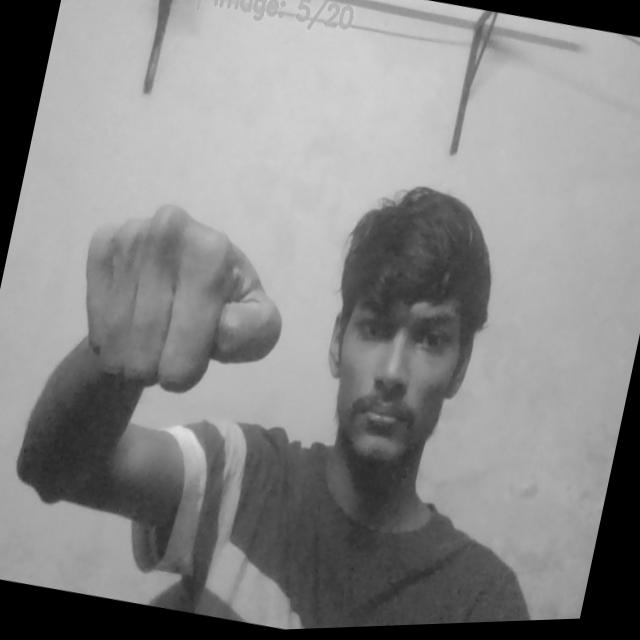Yes: (54, 175, 319, 421)
